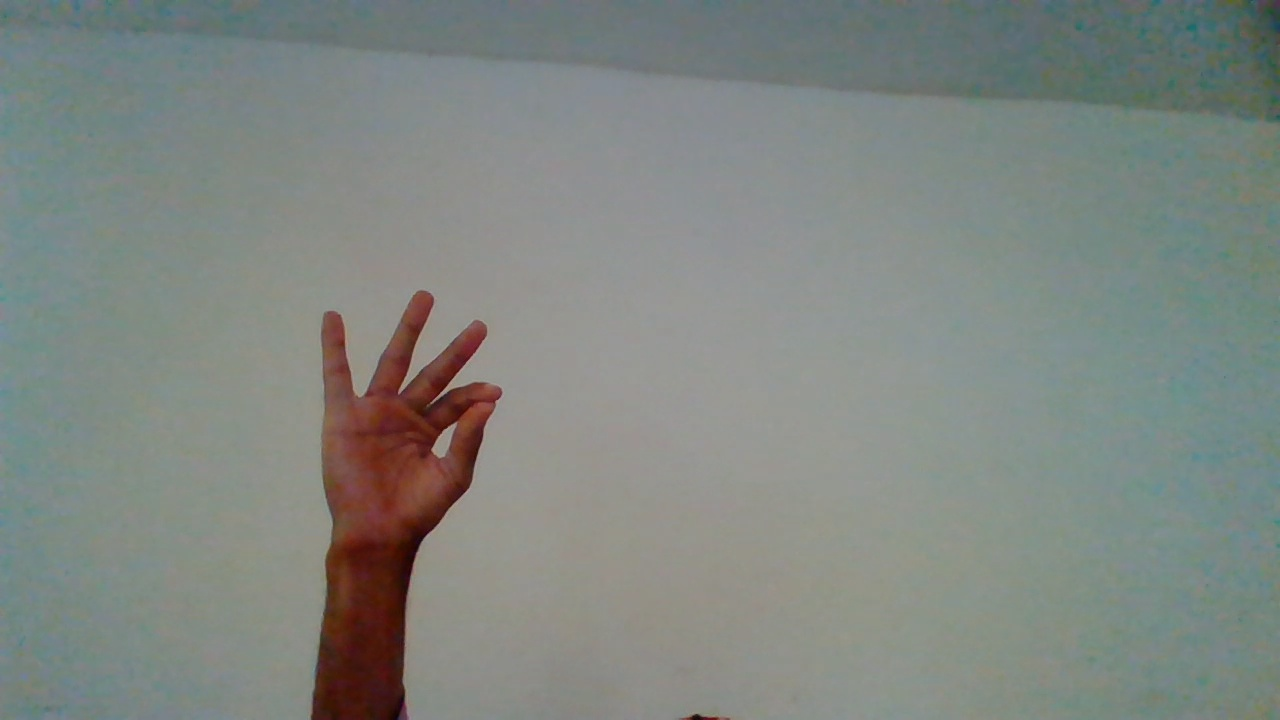le: (320, 280, 506, 701)
